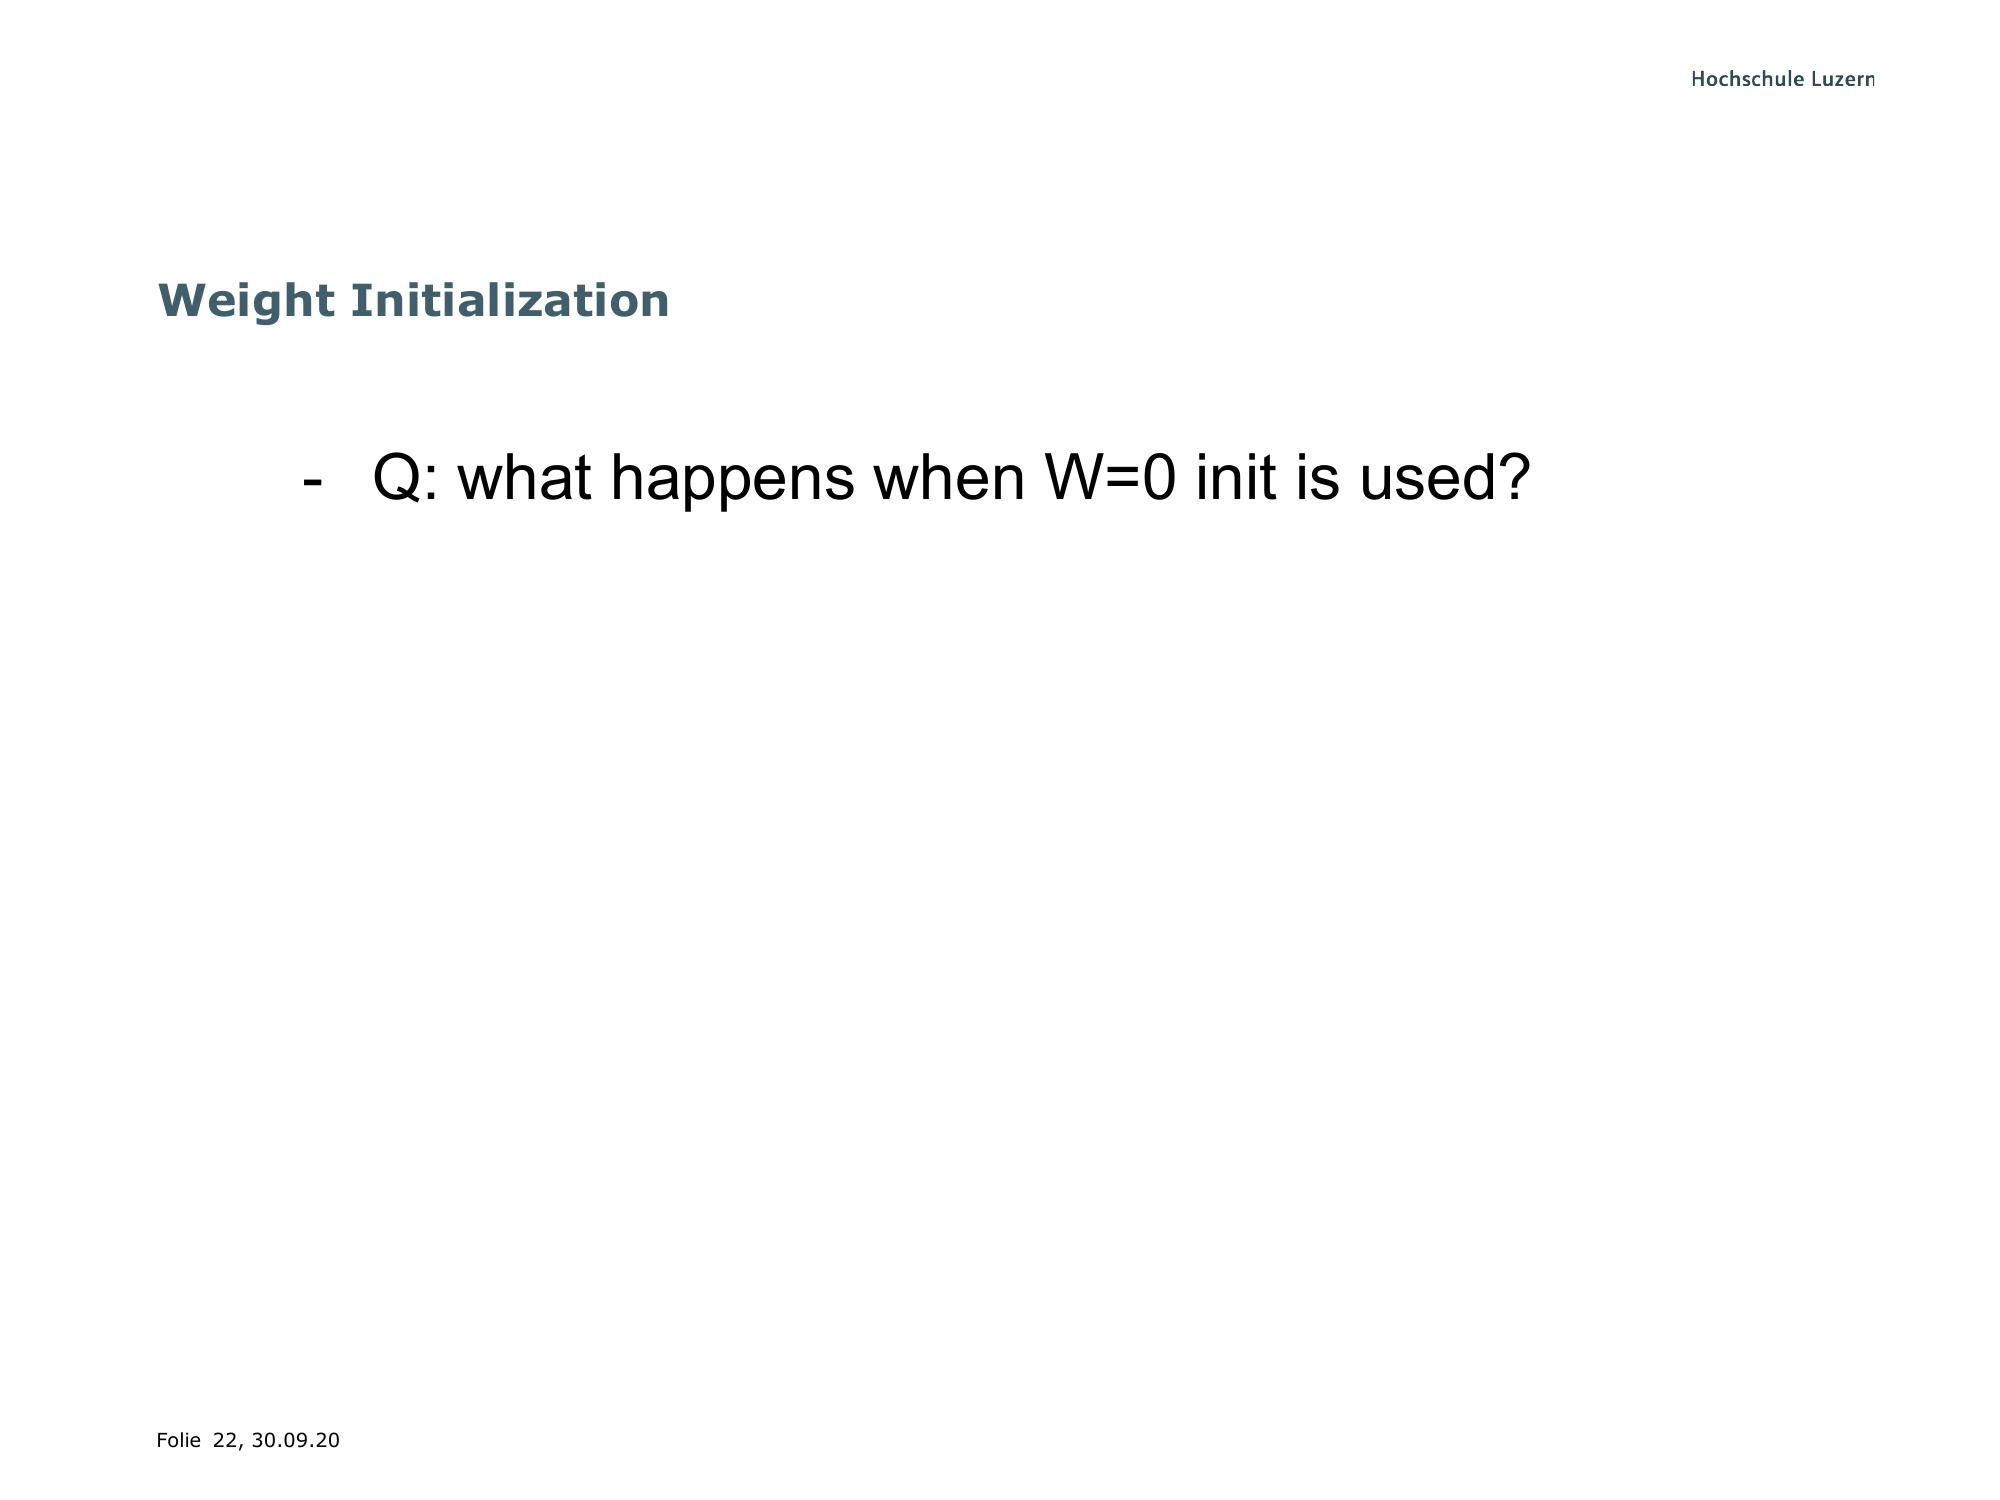Title: (146, 262, 690, 339)
